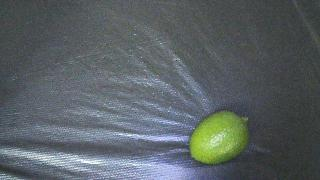LOCAL: (189, 111, 249, 164)
